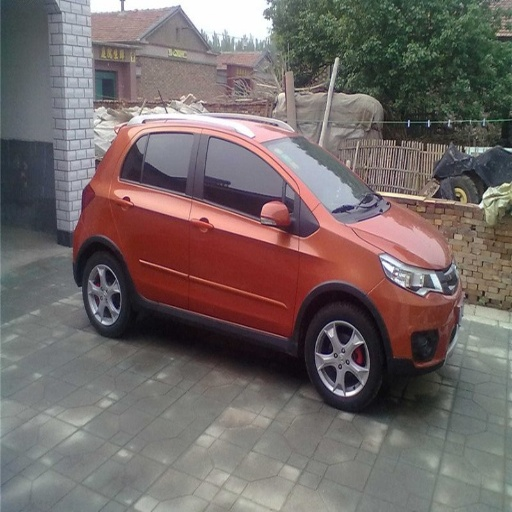front_bumper: (380, 282, 460, 369)
front_right_door: (189, 131, 298, 337)
front_right_light: (381, 255, 454, 294)
